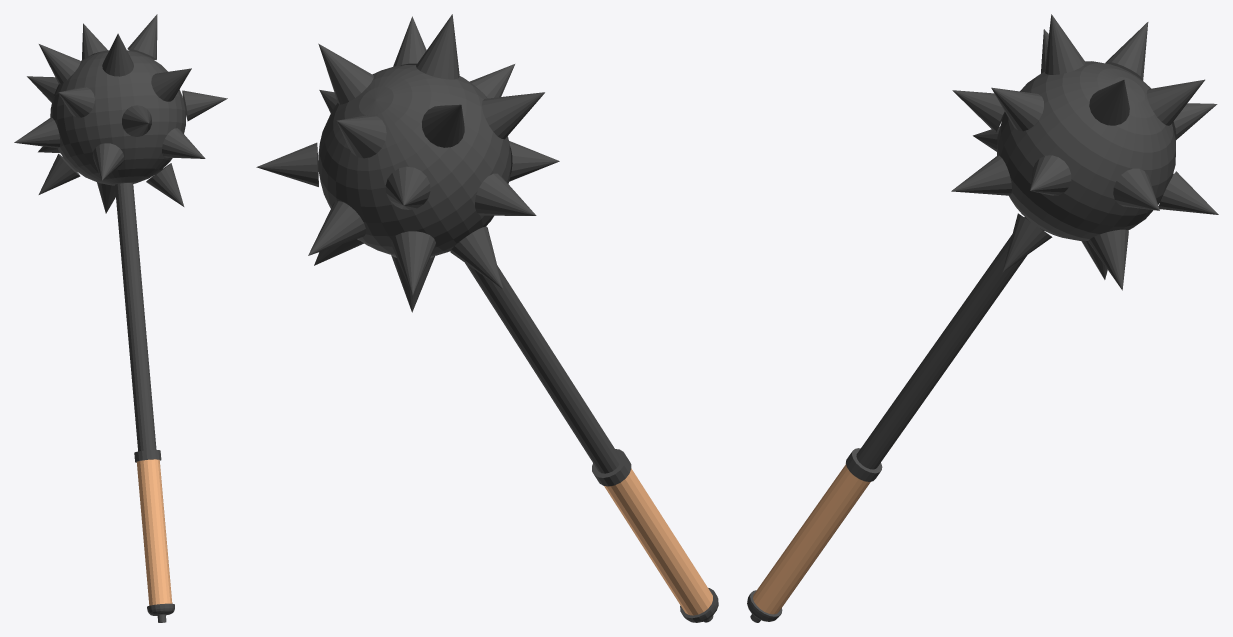
Rendered from mace.glb.
3 views of the same model, side by side, from view 1: azimuth 30°, elevation 25°; view 2: azimuth 150°, elevation 25°; view 3: azimuth 270°, elevation 25° (orthographic). The views are drawn at different scales.
Parts seen in each view (by area): view 1: Sphere001, Cylinder001, Cylinder018, Cylinder020, Cylinder015, Cylinder002, Cylinder003, Cylinder004, Cylinder011, Cylinder016, Cylinder006, Cylinder013 (+5 smaller); view 2: Sphere001, Cylinder001, Cylinder007, Cylinder002, Cylinder014, Cylinder003, Cylinder015, Cylinder017, Cylinder009, Cylinder006, Cylinder005, Cylinder011 (+4 smaller); view 3: Sphere001, Cylinder001, Cylinder018, Cylinder009, Cylinder012, Cylinder020, Cylinder015, Cylinder017, Cylinder010, Cylinder019, Cylinder014, Cylinder013 (+3 smaller).
Boxes of the visible parts, box(x1,y1,x2,y2) form: Sphere001: box(50, 50, 185, 185); Cylinder001: box(115, 183, 174, 622); Cylinder018: box(151, 68, 191, 101); Cylinder020: box(162, 128, 205, 158); Cylinder015: box(102, 33, 133, 76); Cylinder002: box(14, 117, 60, 148); Cylinder003: box(58, 87, 94, 117); Cylinder004: box(92, 143, 123, 180); Cylinder011: box(39, 44, 80, 84); Cylinder016: box(122, 105, 151, 136); Cylinder006: box(38, 153, 80, 194); Cylinder013: box(146, 163, 184, 206); Sphere001: box(318, 65, 511, 256); Cylinder001: box(465, 263, 718, 622); Cylinder007: box(391, 231, 435, 294); Cylinder002: box(475, 173, 536, 215); Cylinder014: box(308, 201, 365, 255); Cylinder003: box(482, 92, 544, 139); Cylinder015: box(416, 14, 459, 79); Cylinder017: box(318, 43, 373, 104); Cylinder009: box(337, 114, 386, 158); Cylinder006: box(450, 226, 503, 289); Cylinder005: box(385, 166, 430, 209); Cylinder011: box(422, 104, 464, 147); Sphere001: box(997, 61, 1175, 240); Cylinder001: box(747, 217, 1043, 622); Cylinder018: box(991, 87, 1043, 131); Cylinder009: box(1146, 79, 1204, 125); Cylinder012: box(1113, 168, 1159, 210); Cylinder020: box(951, 155, 1011, 195); Cylinder015: box(1044, 14, 1085, 74); Cylinder017: box(1089, 80, 1129, 125); Cylinder010: box(1088, 229, 1128, 290); Cylinder019: box(1030, 155, 1071, 195); Cylinder014: box(1158, 171, 1218, 214); Cylinder013: box(1002, 213, 1052, 271).
Bounding box in the file's own units: 0.3506 × 0.9 × 0.5909.
